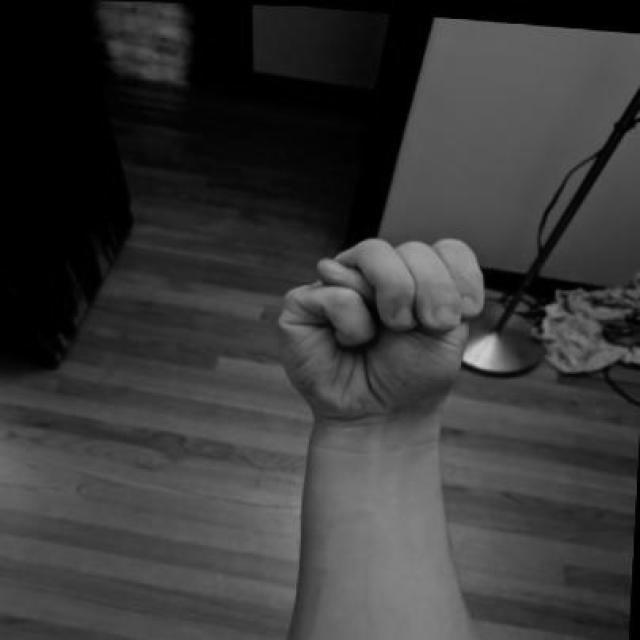M: (262, 214, 494, 432)
